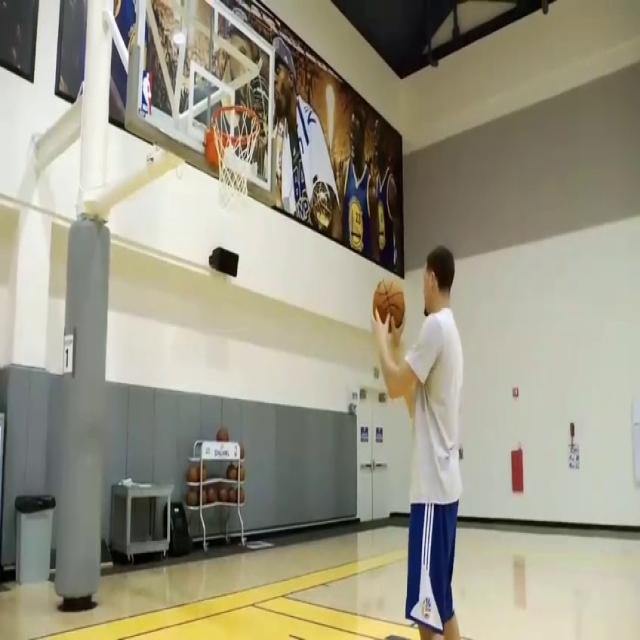ball: (372, 278, 406, 330), (186, 458, 202, 485), (185, 484, 198, 508), (230, 486, 245, 506), (230, 462, 244, 482), (215, 426, 230, 444), (207, 483, 219, 505), (218, 486, 231, 505)
